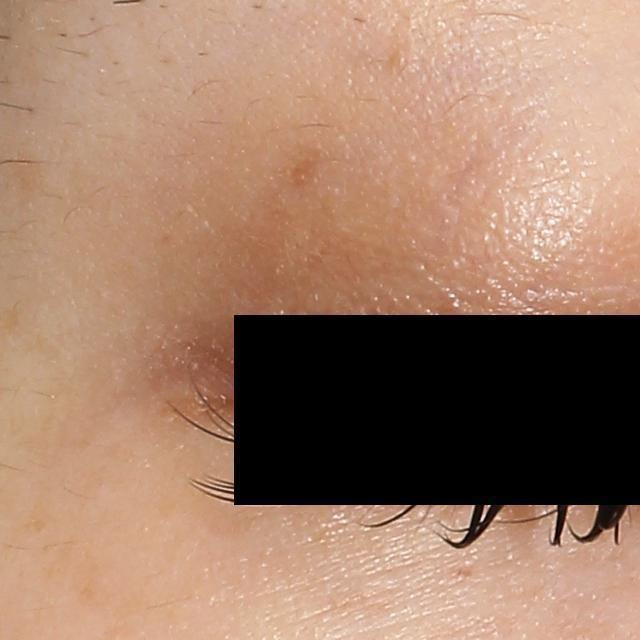melasma: (255, 138, 331, 190)
